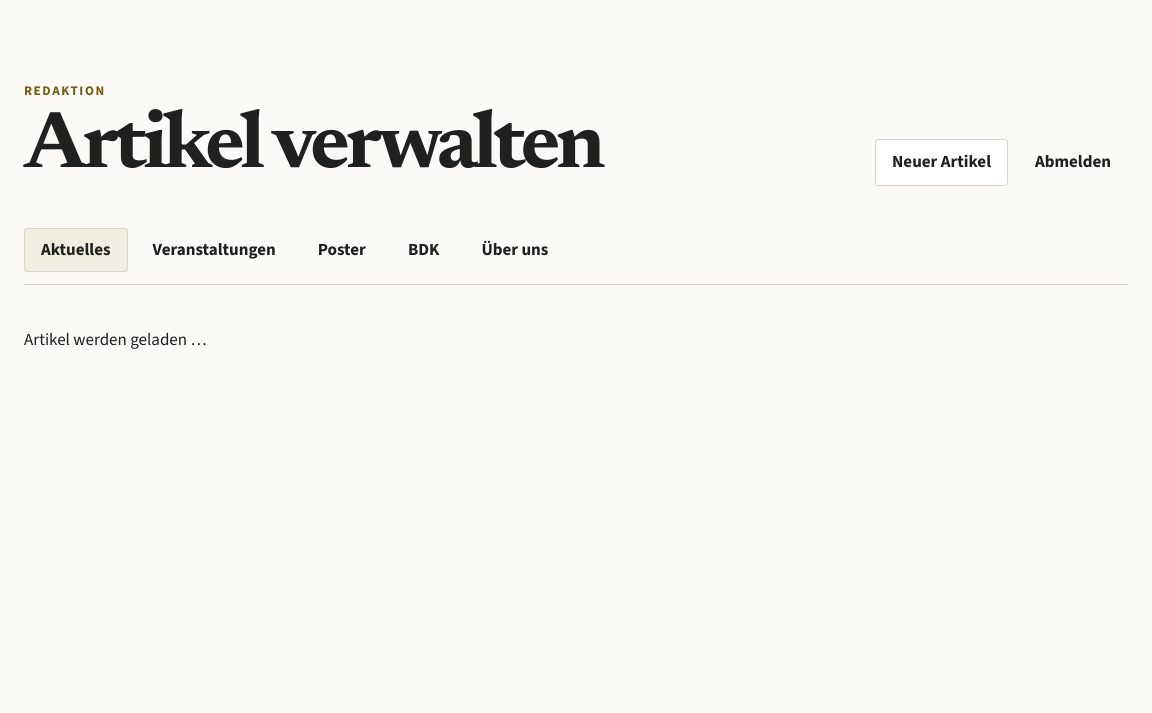
EditorialDashboard › opens BDK management from its own editorial tab
Click the tab "BDK" at (424, 250), box [391,228,456,272]
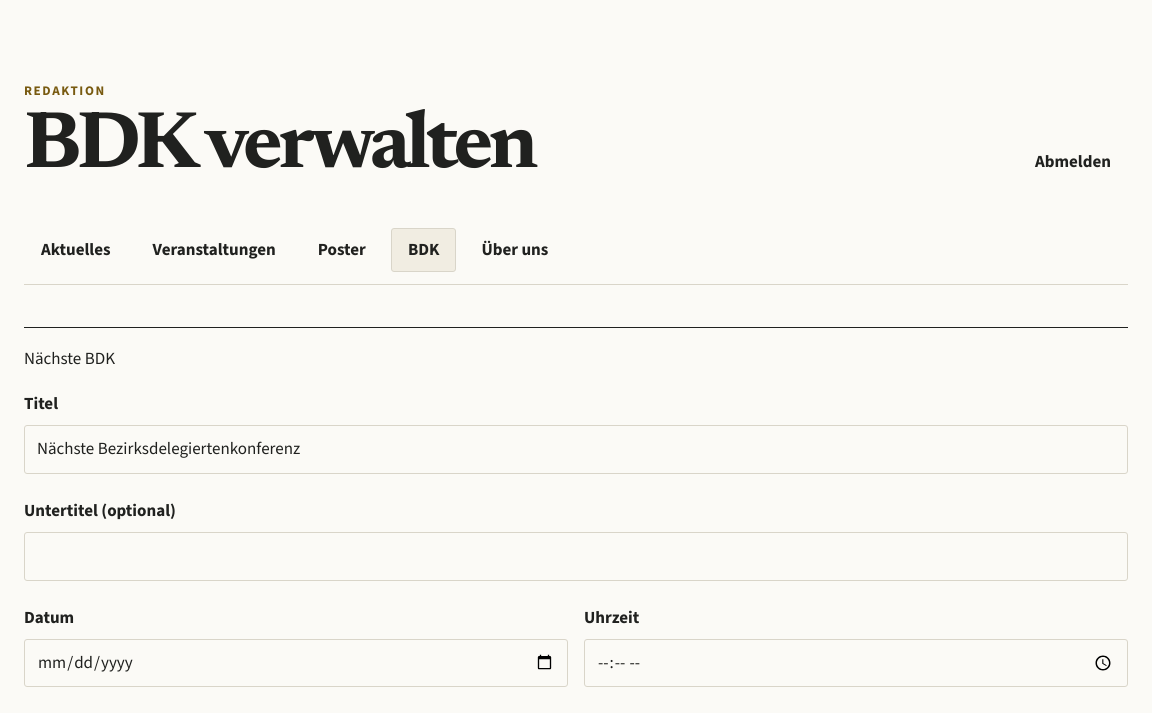
expect the heading "BDK verwalten" is shown: met, box [24,111,534,186]
expect the heading "Nächste BDK" is shown: met, box [24,347,115,370]
